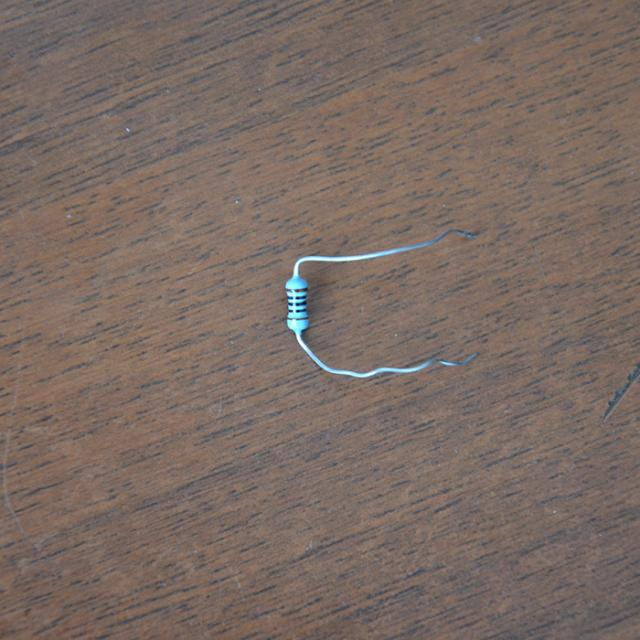Resistor Carbon-Film: (285, 275, 312, 332)
